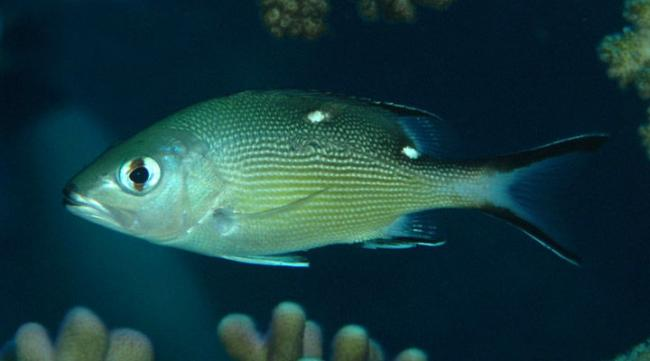fish: (61, 88, 610, 268)
